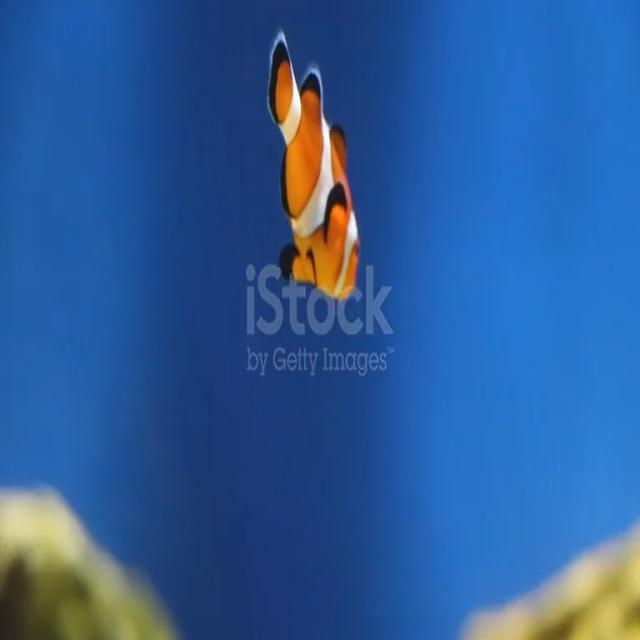fish: (264, 24, 366, 304)
